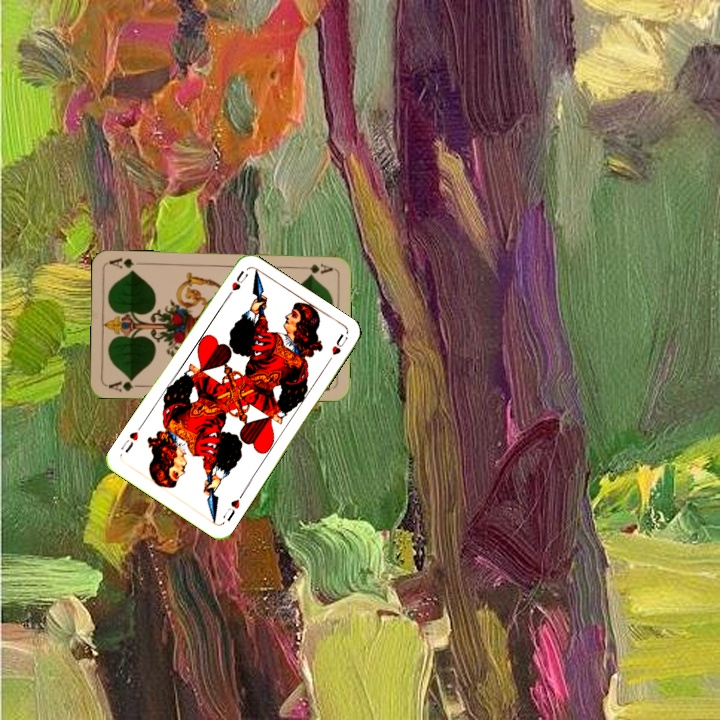GA: (105, 374, 145, 394), (295, 259, 335, 276)
HU: (222, 266, 250, 302), (219, 489, 246, 524)
